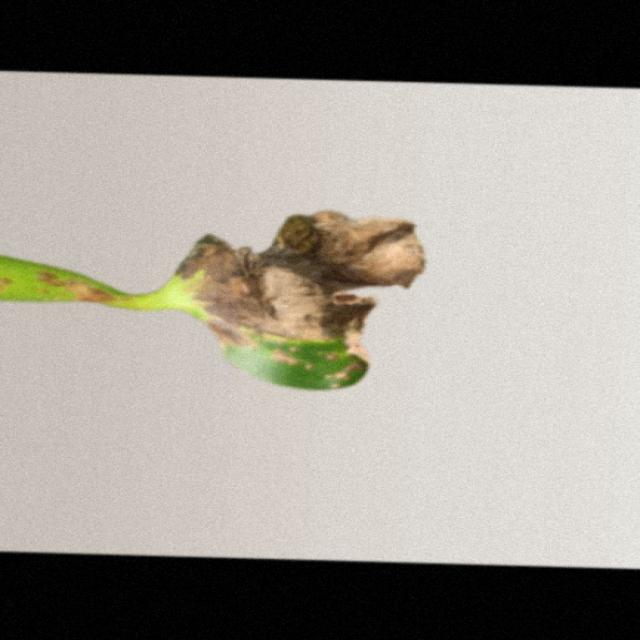daun berpenyakit karat: (2, 211, 425, 391)
